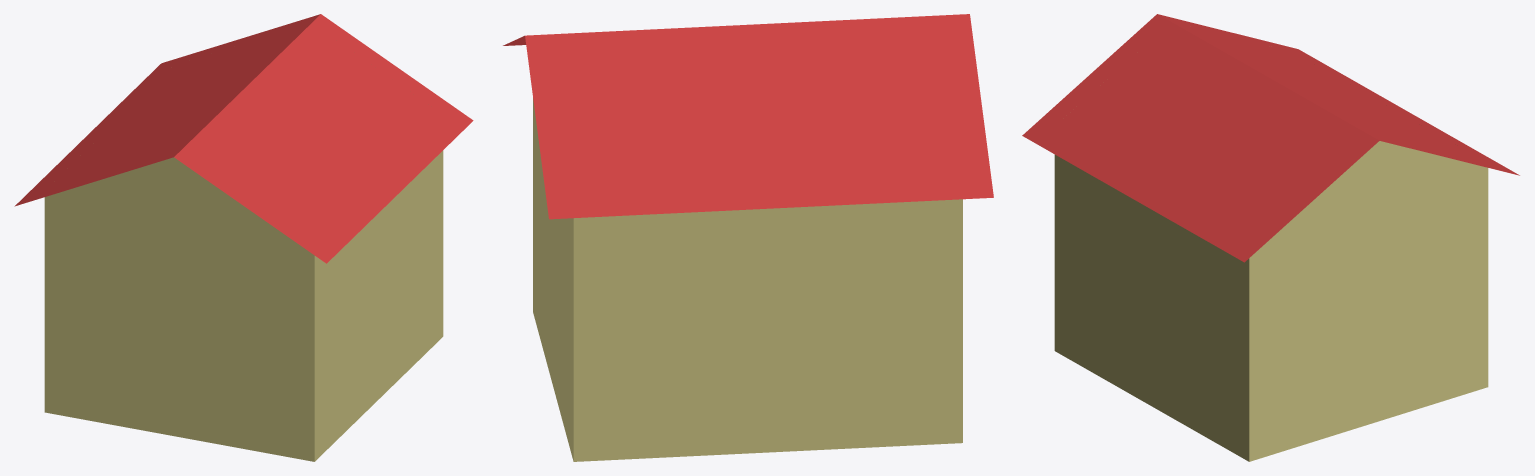
The picture shows the model from 3 angles, left to right: view 1: azimuth 30°, elevation 25°; view 2: azimuth 150°, elevation 25°; view 3: azimuth 270°, elevation 25°; orthographic projection. The views are drawn at different scales.
Size of the model in its own units: 10.84 by 10.71 by 6.93.
